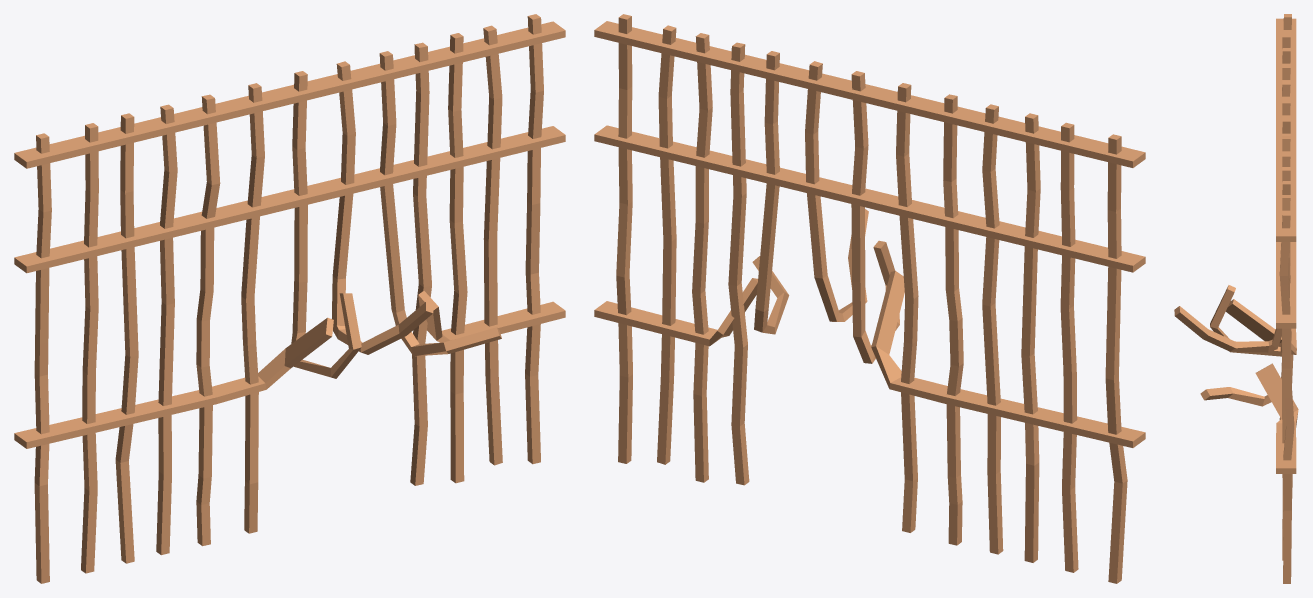
File: Broken bars.fbx
The picture shows the model from 3 angles, left to right: view 1: azimuth 30°, elevation 25°; view 2: azimuth 150°, elevation 25°; view 3: azimuth 270°, elevation 25°; orthographic projection. The views are drawn at different scales.
Parts seen in each view (by area): view 1: Jail_Wall_broken; view 2: Jail_Wall_broken; view 3: Jail_Wall_broken.
Boxes of the visible parts, bbox=[...] form: Jail_Wall_broken: bbox=[14, 14, 565, 583]; Jail_Wall_broken: bbox=[594, 14, 1145, 583]; Jail_Wall_broken: bbox=[1174, 14, 1298, 583].
Bounding box in the file's own units: 400 × 316 × 96.46.
